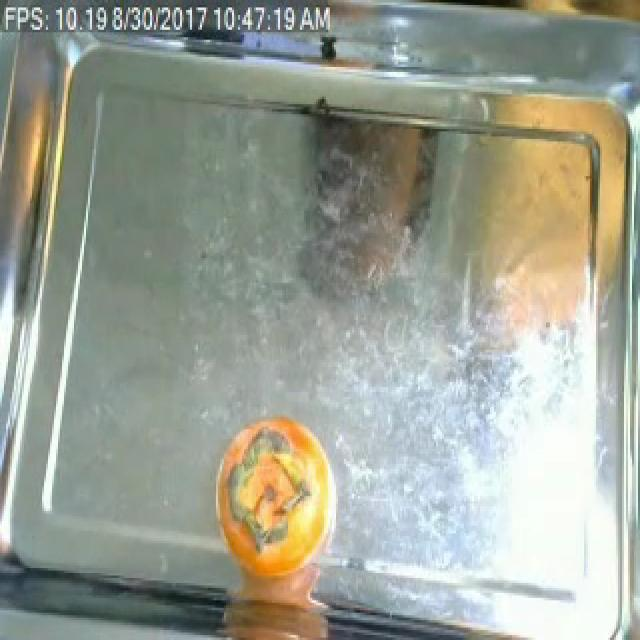Fruit: (444, 122, 604, 372), (212, 407, 344, 637)
